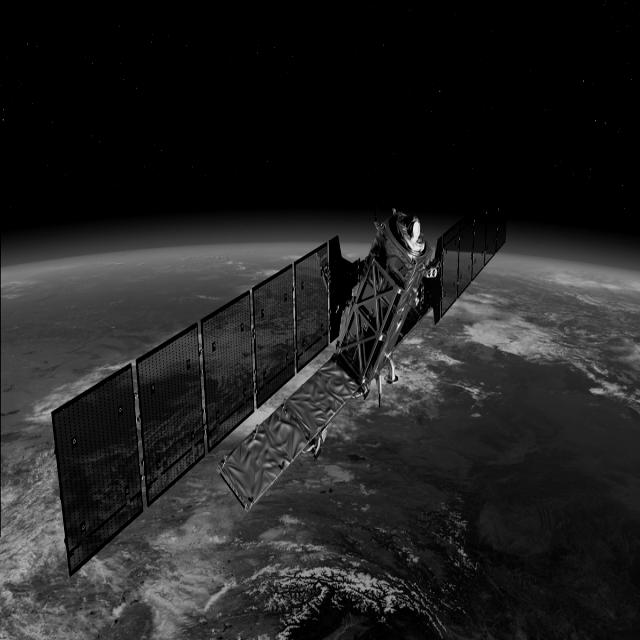medium_debris: (46, 161, 542, 592)
